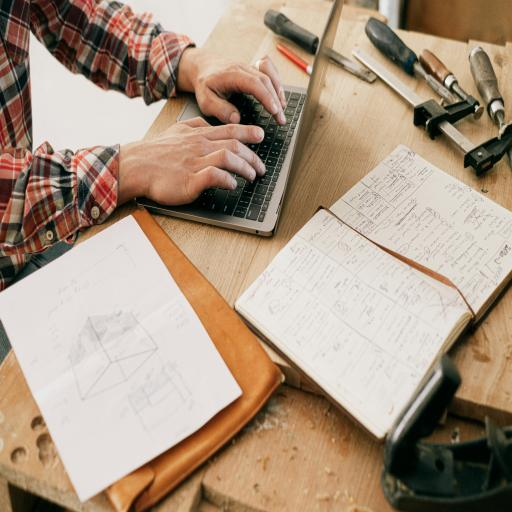Gloves: (146, 30, 288, 220)
